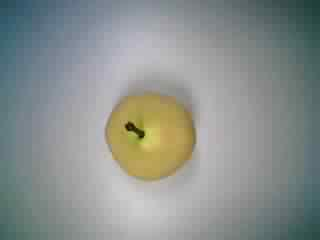pear: (88, 84, 208, 184)
